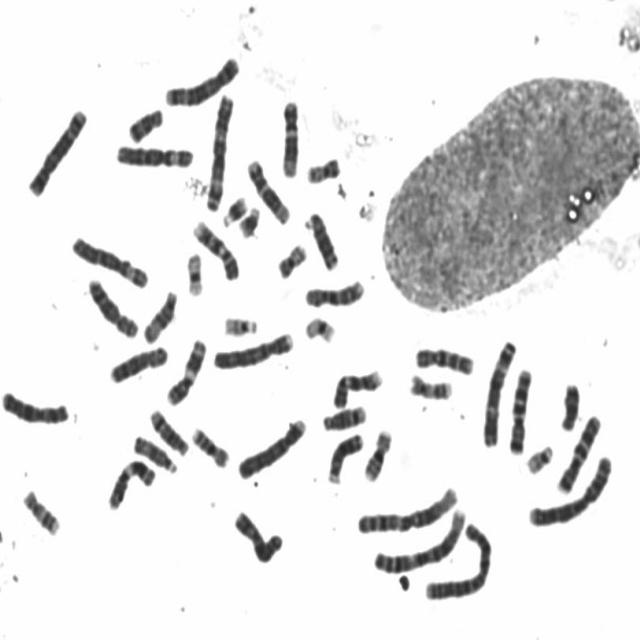A1: (368, 500, 469, 575), (352, 478, 460, 536)
A2: (524, 447, 616, 529), (420, 514, 496, 602)
A3: (478, 332, 519, 449), (201, 84, 237, 212)
B4: (233, 409, 309, 482), (208, 322, 296, 372)
B5: (23, 101, 90, 198), (160, 48, 242, 108)
C10: (300, 271, 368, 309), (411, 338, 477, 377)
C11: (162, 331, 209, 407), (103, 450, 158, 512)
C12: (243, 151, 293, 226), (276, 92, 302, 179)
C6: (67, 227, 151, 290), (111, 136, 196, 170)
C7: (552, 406, 604, 496), (504, 360, 534, 457)
C8: (83, 270, 141, 340), (105, 338, 171, 386)
C9: (188, 212, 243, 282), (328, 362, 385, 409)
D13: (301, 205, 341, 272), (324, 425, 366, 485)
D14: (145, 401, 191, 458), (318, 398, 368, 433)
D15: (140, 282, 180, 344), (129, 426, 180, 474)
E16: (188, 419, 232, 470), (359, 422, 394, 483)
E17: (18, 481, 63, 537), (405, 367, 455, 402)
E18: (124, 100, 165, 144), (556, 374, 582, 433)
F19: (300, 309, 338, 345), (182, 244, 206, 298)
F20: (273, 236, 310, 280), (302, 149, 344, 185)
G21: (217, 188, 250, 228), (235, 199, 263, 240)
G22: (522, 436, 556, 476), (220, 308, 261, 338)
X: (230, 502, 287, 566), (0, 382, 72, 426)
